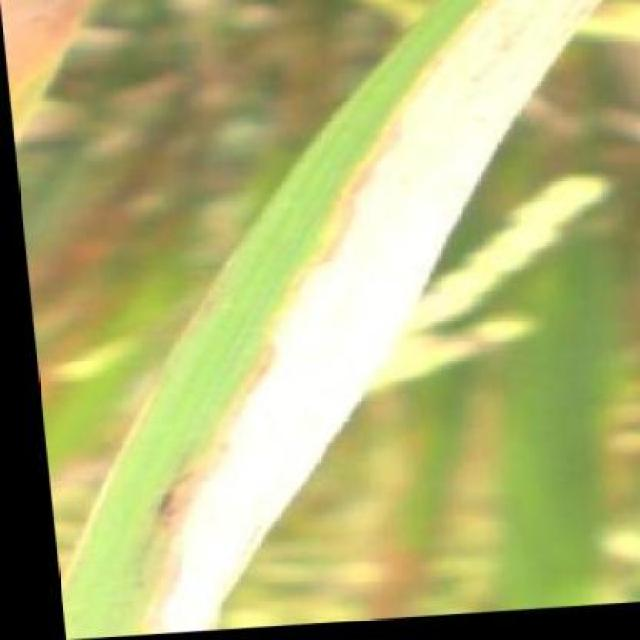Brown_Spot: (59, 218, 368, 634)
